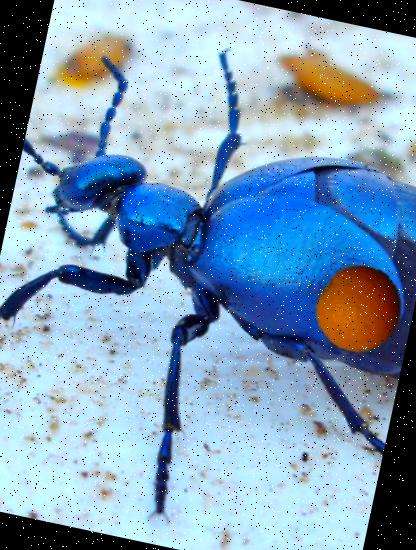Orange: (308, 257, 411, 360)
